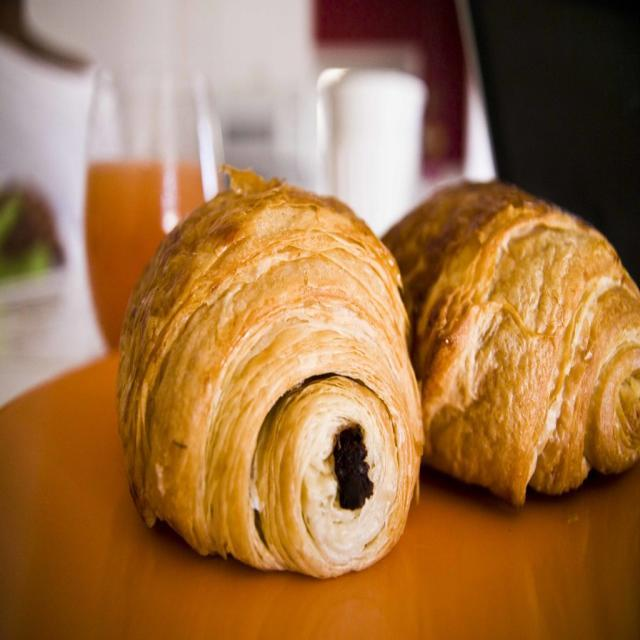Croissant: (116, 164, 430, 580), (380, 181, 640, 507)
